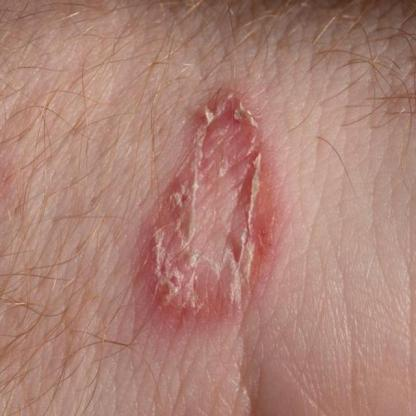Ringworm: (130, 77, 302, 348)
